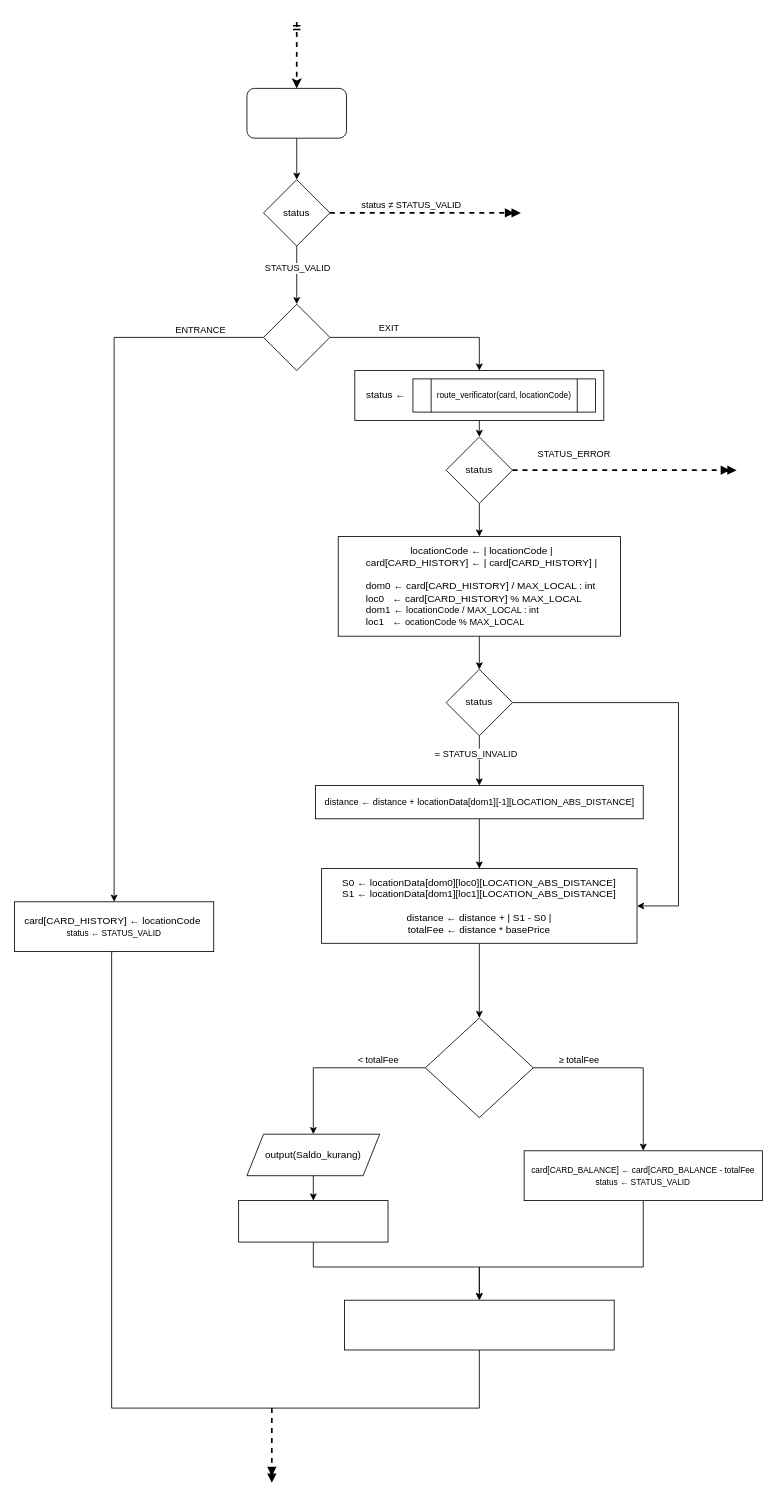
Image size: 777x1504. Some labels were removed from this diagram. Each missing label, with the centre of its shape:
"card[CARD_BALANCE]" goes at (479,1067).
"card[CARD_HISTORY] ← CARD_HISTORY_DEFAULT" goes at (479,1324).
"gate" goes at (296,337).
"PEMBAYARAN" goes at (296,113).
"status ← STATUS_INVALID" goes at (313,1221).
